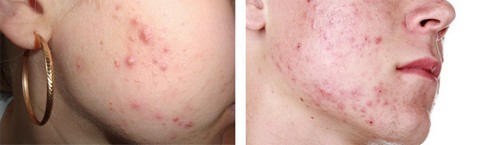Acne: (79, 6, 195, 133)
